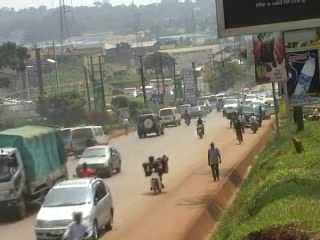Car: (30, 176, 115, 239), (75, 143, 123, 179), (134, 111, 166, 140), (220, 98, 247, 117), (214, 95, 228, 113), (199, 98, 214, 114), (187, 106, 207, 117)
Motorcycle: (141, 155, 170, 196), (73, 167, 94, 181), (194, 118, 207, 140), (182, 111, 192, 127), (84, 133, 94, 147)
